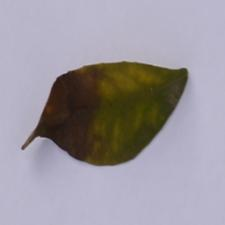Black: (37, 63, 119, 178)
